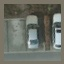car: (22, 11, 39, 50)
